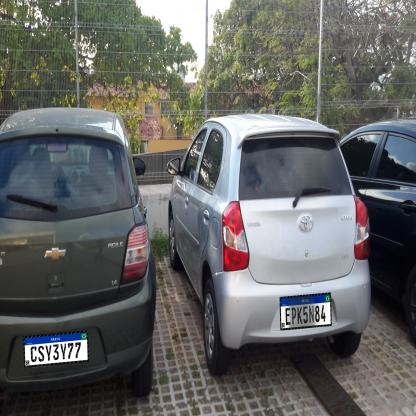PlacaM: (23, 330, 89, 368), (280, 292, 332, 330)
